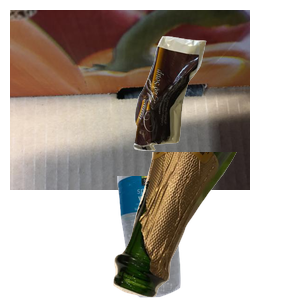cardboard: (10, 10, 250, 190)
glass: (111, 152, 300, 300)
plastic: (115, 176, 288, 300)
trash: (131, 34, 300, 177)
